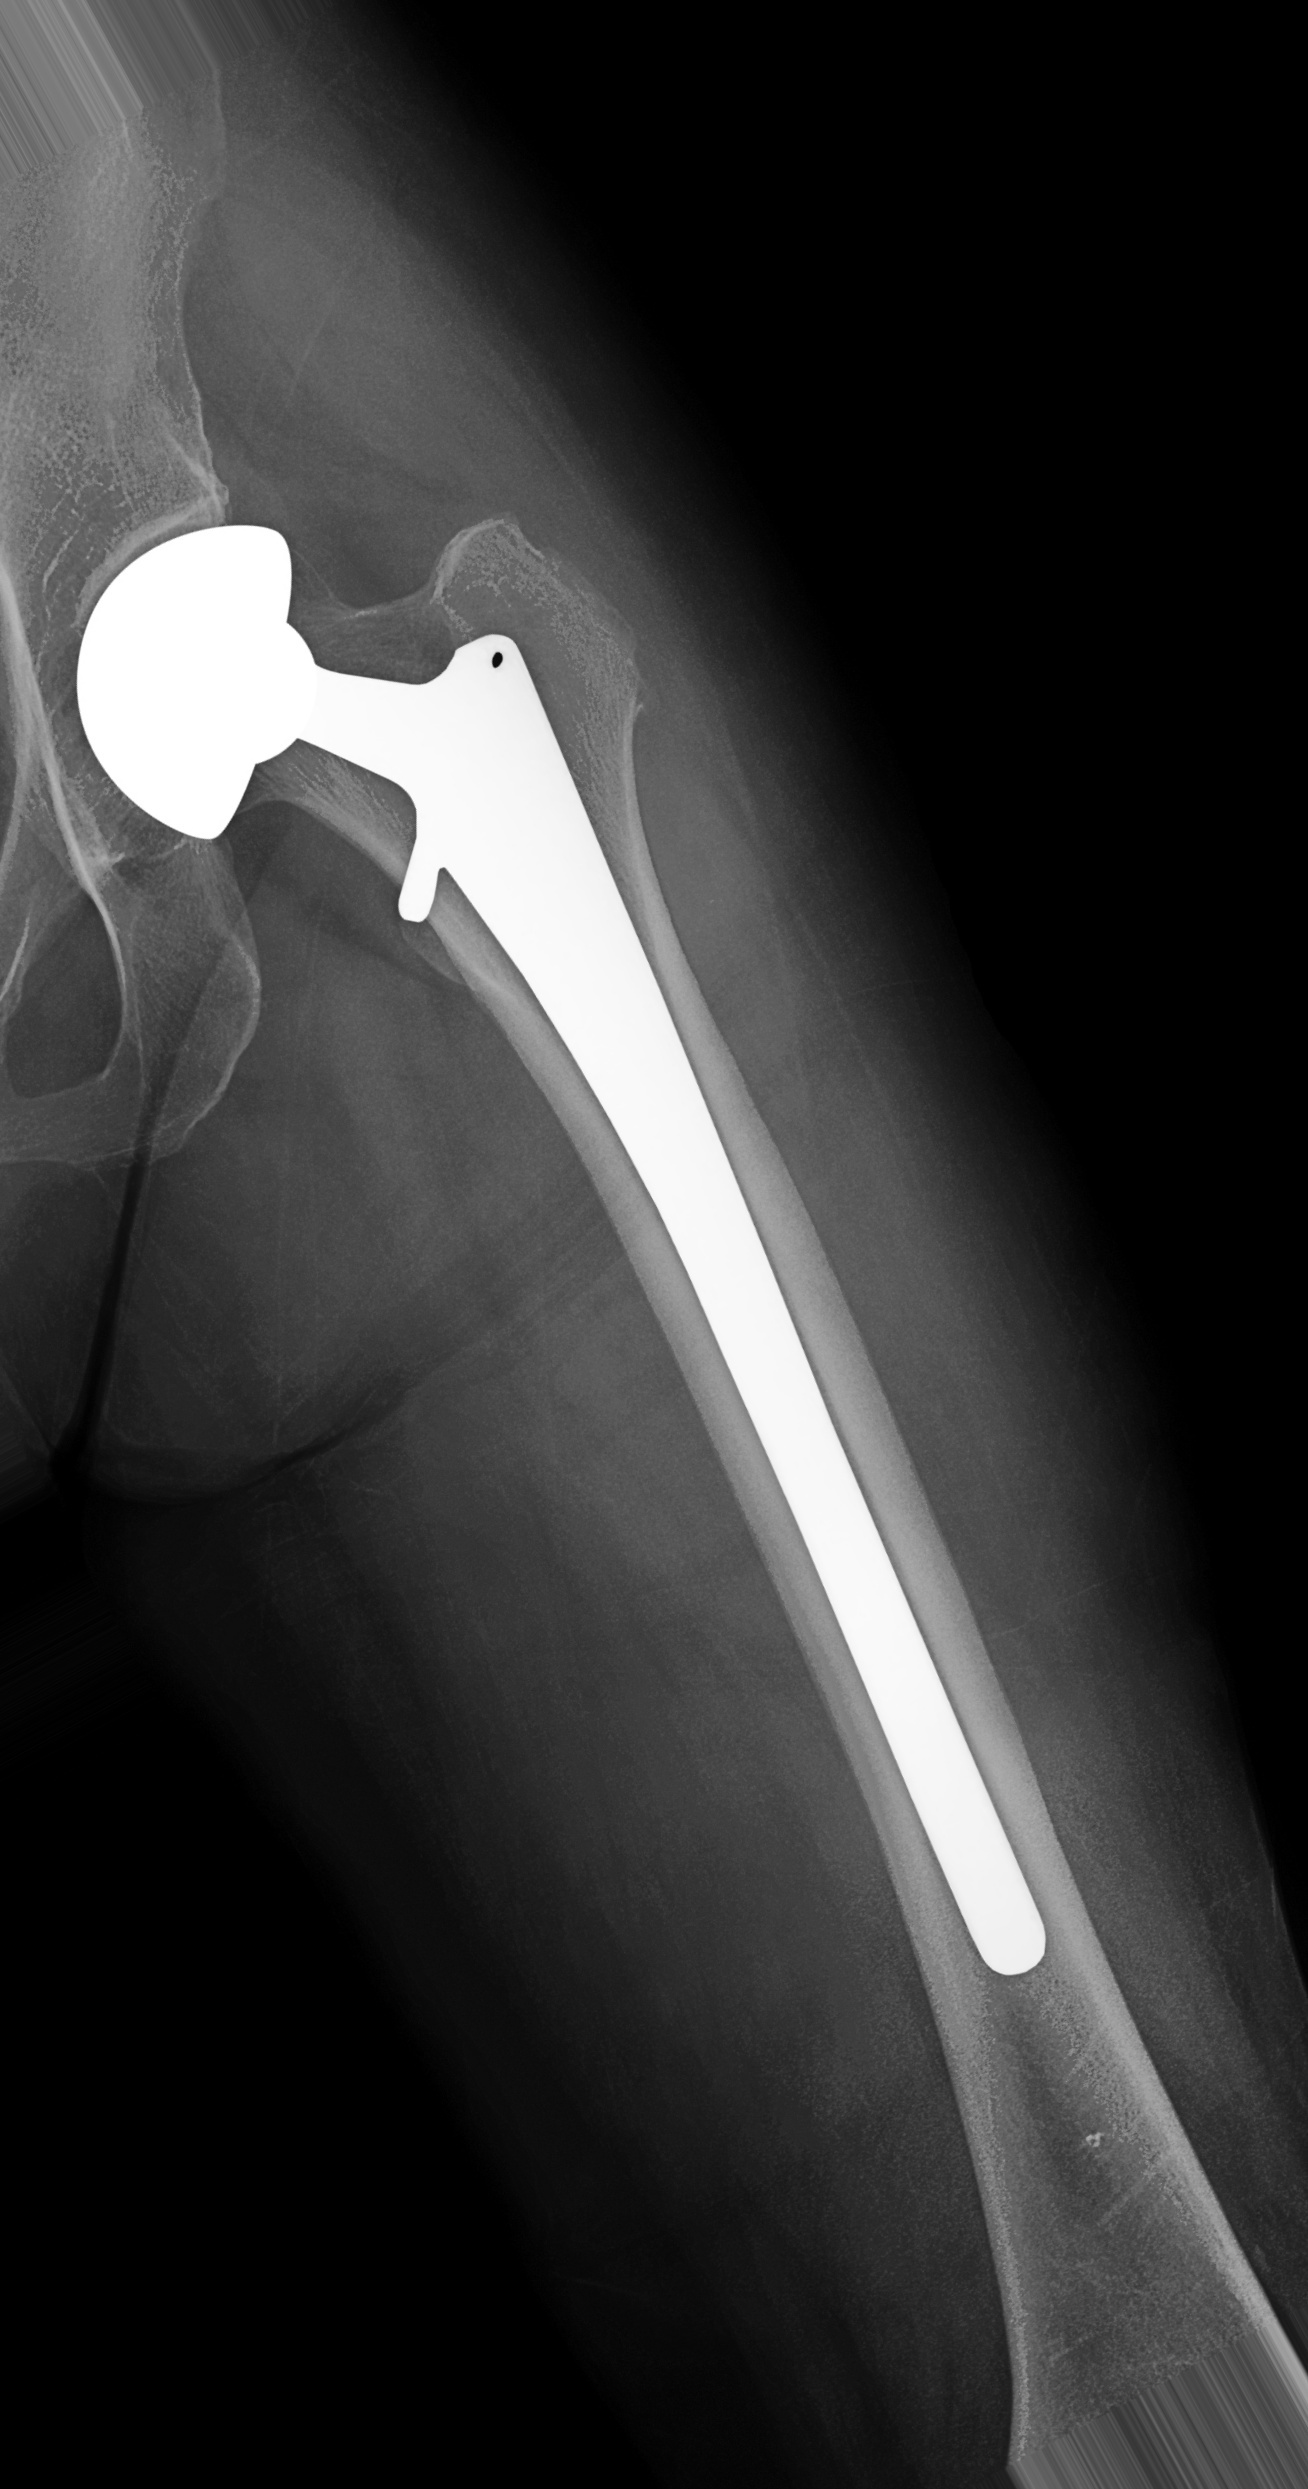Hip-Bias-Zimmer: (58, 514, 1055, 1982)
